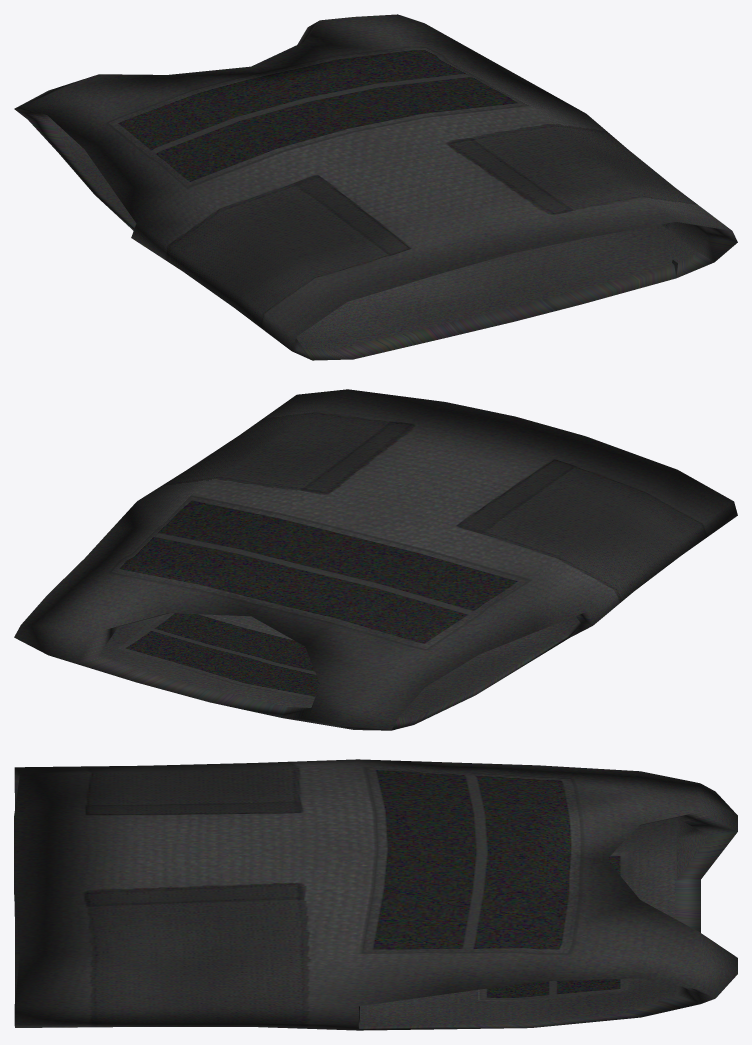
File: MilitaryTacticalVest_WorldItem.fbx
3 renders of one model, top to bottom at view 1: azimuth 30°, elevation 25°; view 2: azimuth 150°, elevation 25°; view 3: azimuth 270°, elevation 25°, orthographic. The views are drawn at different scales.
Parts seen in each view (by area): view 1: Circle_Circle.001; view 2: Circle_Circle.001; view 3: Circle_Circle.001.
Boxes of the visible parts, box(x1,y1,x2,y2) form: Circle_Circle.001: box(14, 14, 737, 360); Circle_Circle.001: box(14, 389, 737, 730); Circle_Circle.001: box(14, 759, 737, 1030).
Size of the model in its own units: 0.4989 by 0.0817 by 0.6035.
